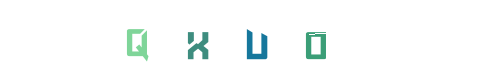O: (220, 0, 300, 80)
Q: (123, 0, 203, 80)
U: (216, 0, 296, 80)
X: (205, 0, 285, 80)
